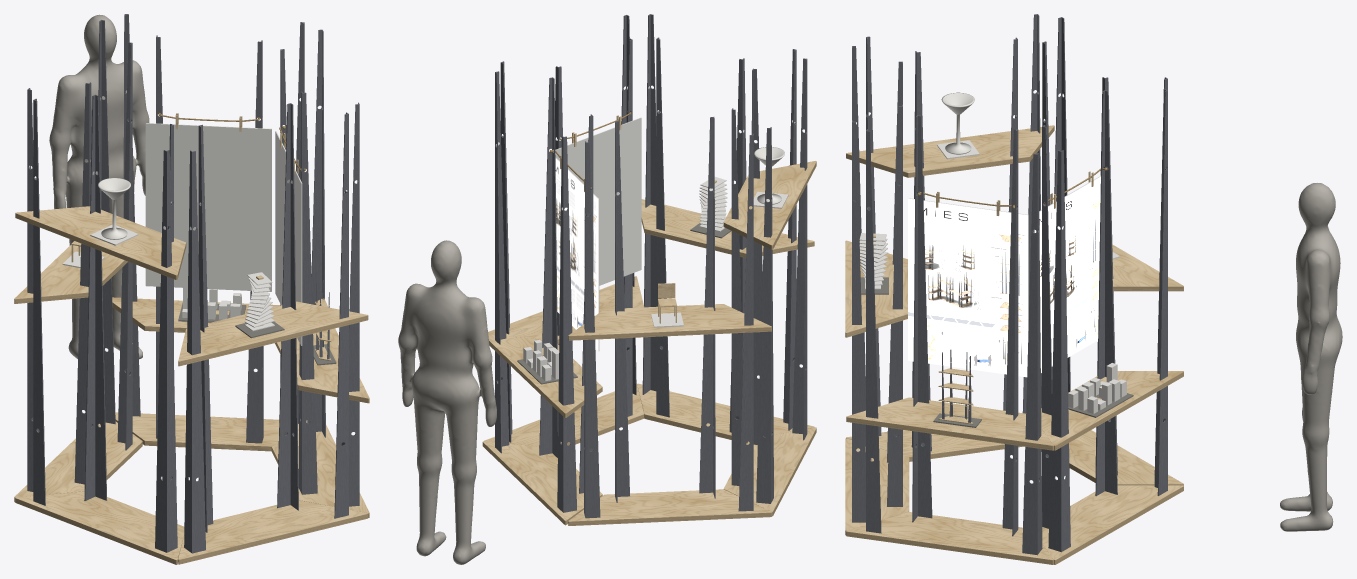
Rendered from mies-pentagono.glb.
The picture shows the model from 3 angles, left to right: view 1: azimuth 30°, elevation 25°; view 2: azimuth 150°, elevation 25°; view 3: azimuth 270°, elevation 25°; orthographic projection. The views are drawn at different scales.
Parts seen in each view (by area): view 1: mies; view 2: mies; view 3: mies.
Boxes of the visible parts, x1=… form: mies: x1=14, y1=14, x2=369, y2=564; mies: x1=398, y1=14, x2=816, y2=564; mies: x1=845, y1=14, x2=1342, y2=564.
Bounding box in the file's own units: 1.67 × 2.1 × 2.33.
Materials: 10 (6 with a texture image).
